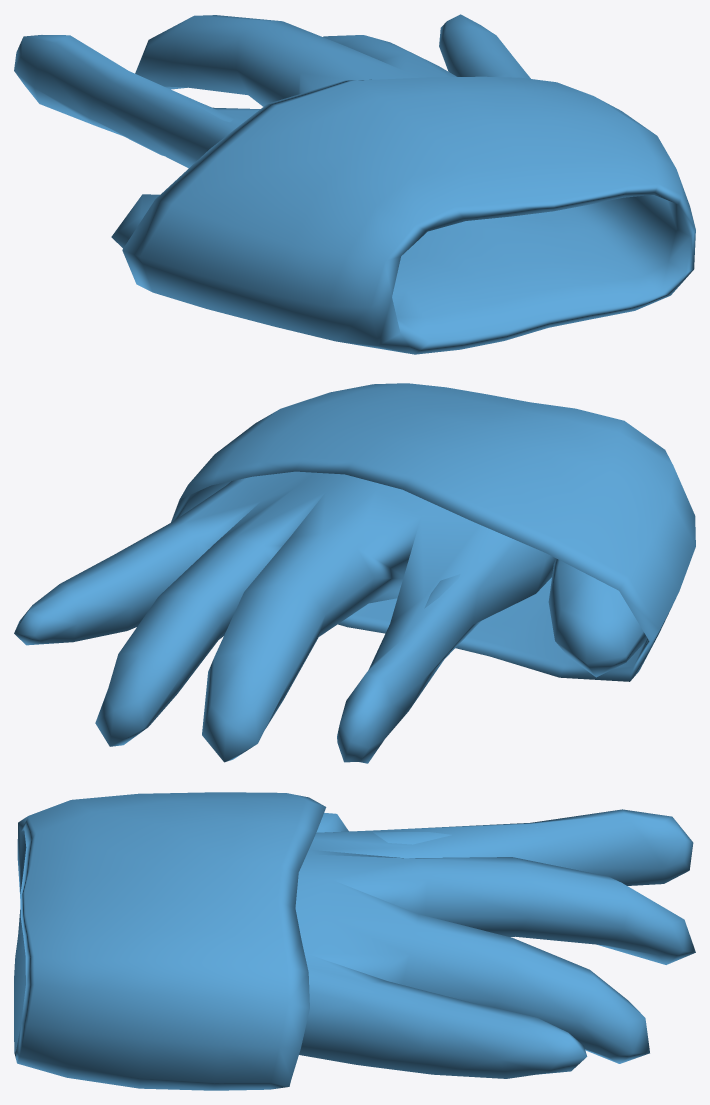
Rendered from glovesBlue.fbx.
The picture shows the model from 3 angles, top to bottom: view 1: azimuth 30°, elevation 25°; view 2: azimuth 150°, elevation 25°; view 3: azimuth 270°, elevation 25°; orthographic projection.
Visible parts, largest first — view 1: glovesBlue:glovesBlue; view 2: glovesBlue:glovesBlue; view 3: glovesBlue:glovesBlue.
Part boxes in pixels (x1,y1,x2,y2): glovesBlue:glovesBlue: (14,14,695,354); glovesBlue:glovesBlue: (14,383,695,763); glovesBlue:glovesBlue: (14,792,695,1090).
Size of the model in its own units: 0.3032 by 0.1076 by 0.3658.
1 material, 1 textured.
